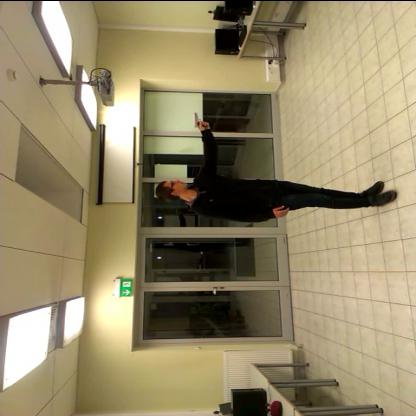Pistol: (186, 110, 214, 130)
